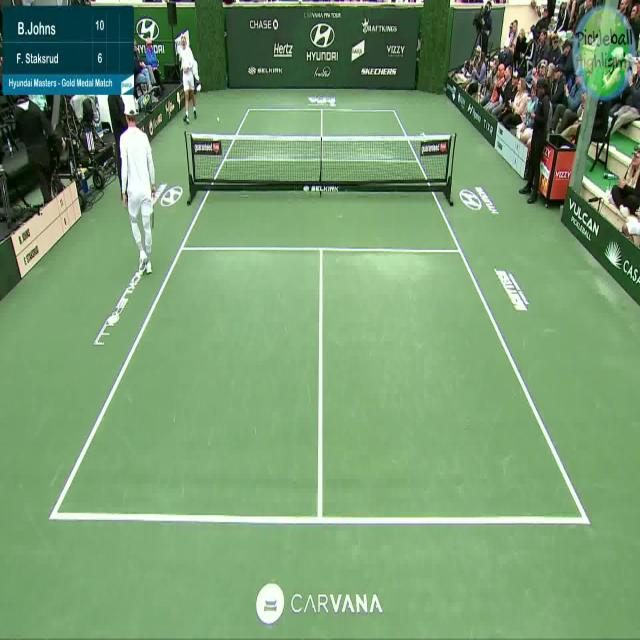Court: (49, 106, 586, 519)
ball: (216, 114, 221, 126)
